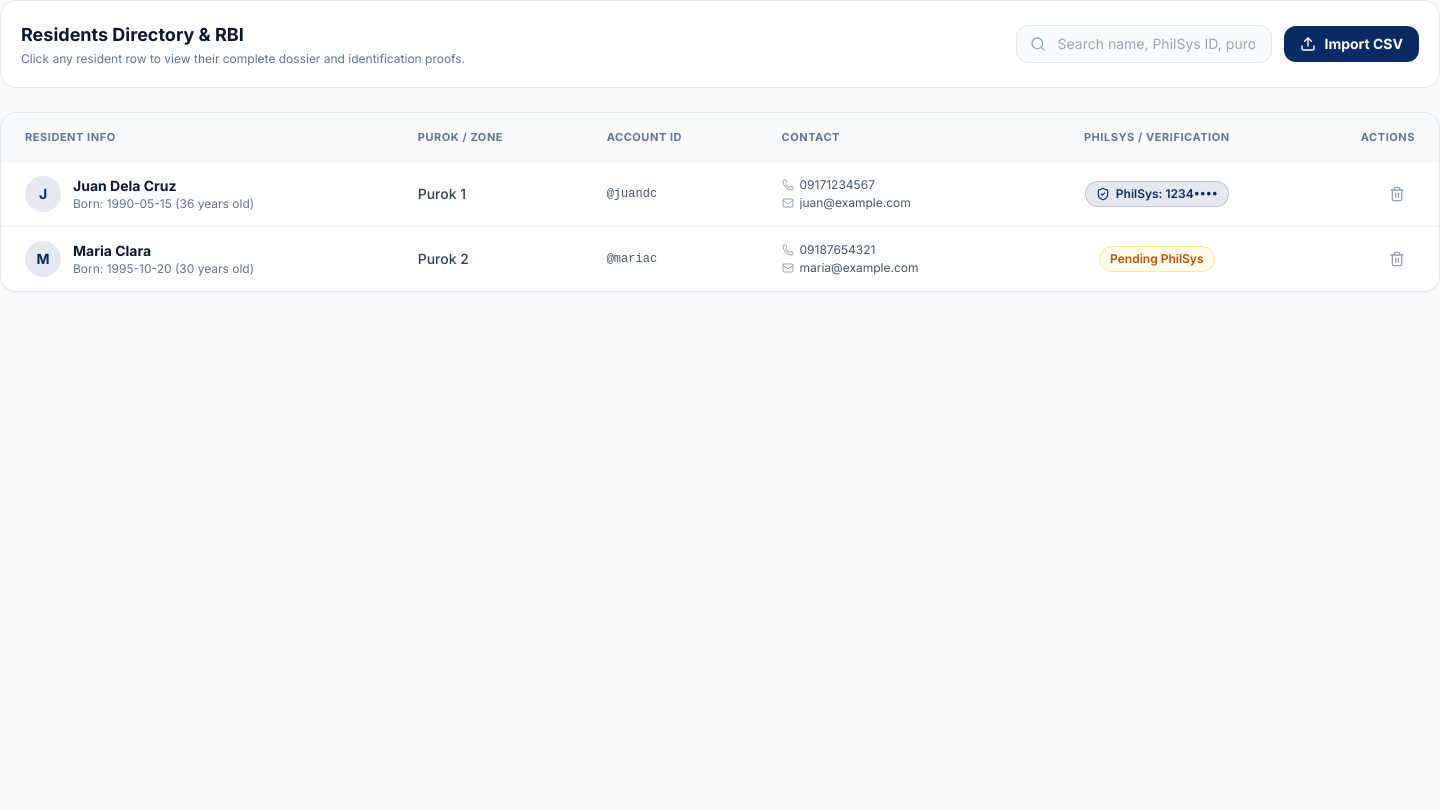
Test: ResidentsManagement Component › opens and closes resident detail modal with demographic data
This screenshot has width=1440, height=810.
Note: Click on the resident row to open detail modal
Click the text "Juan Dela Cruz" at (125, 186), box left=73, top=177, right=176, bottom=194
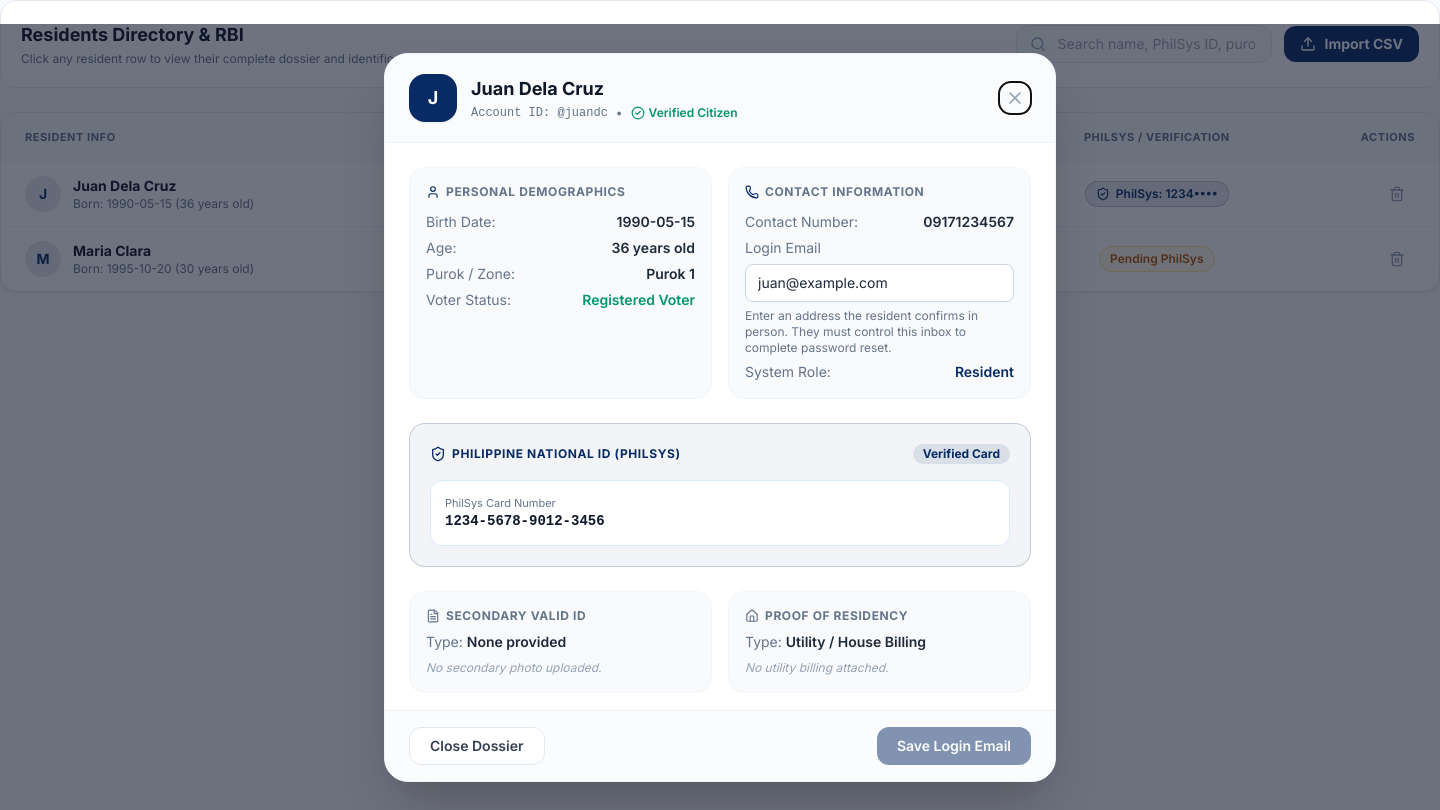
Expected: the text "Personal Demographics" is shown, left=426, top=184, right=626, bottom=198
Expected: the text "1990-05-15" is shown, left=617, top=212, right=695, bottom=232
Expected: the text "Registered Voter" is shown, left=582, top=290, right=695, bottom=310
Note: Close modal
Click the button "Close Dossier" at (477, 746), box left=409, top=726, right=544, bottom=764
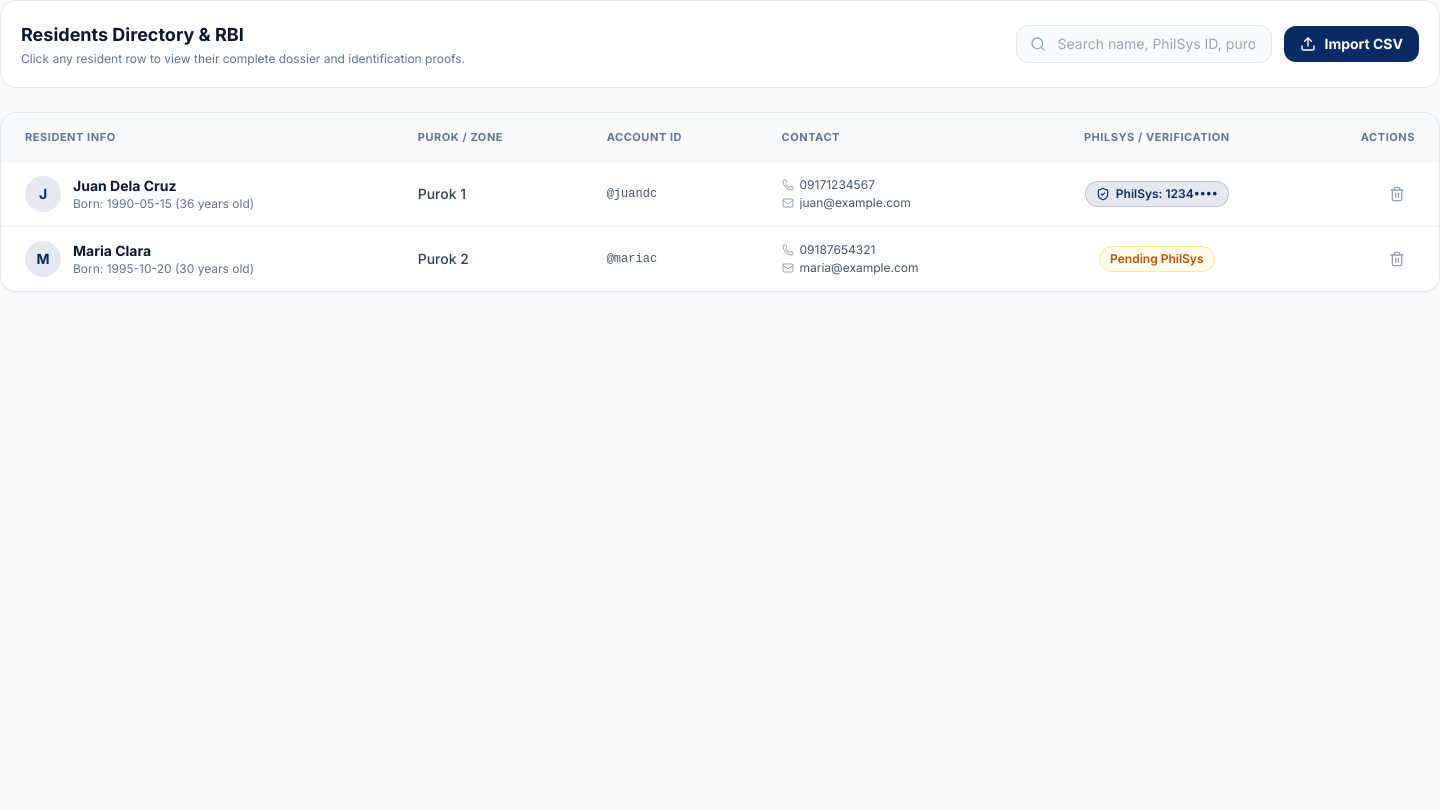
Expected: the text "Personal Demographics" is gone
